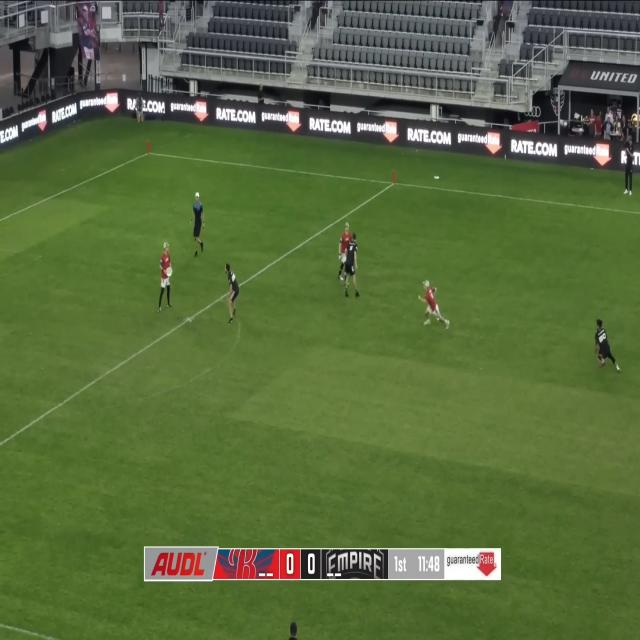Disc: (166, 267, 173, 277), (434, 176, 440, 179)
Player: (418, 280, 450, 330), (595, 319, 621, 372), (344, 233, 360, 298), (158, 242, 172, 312), (224, 263, 240, 324), (190, 193, 205, 258), (338, 222, 352, 286)
